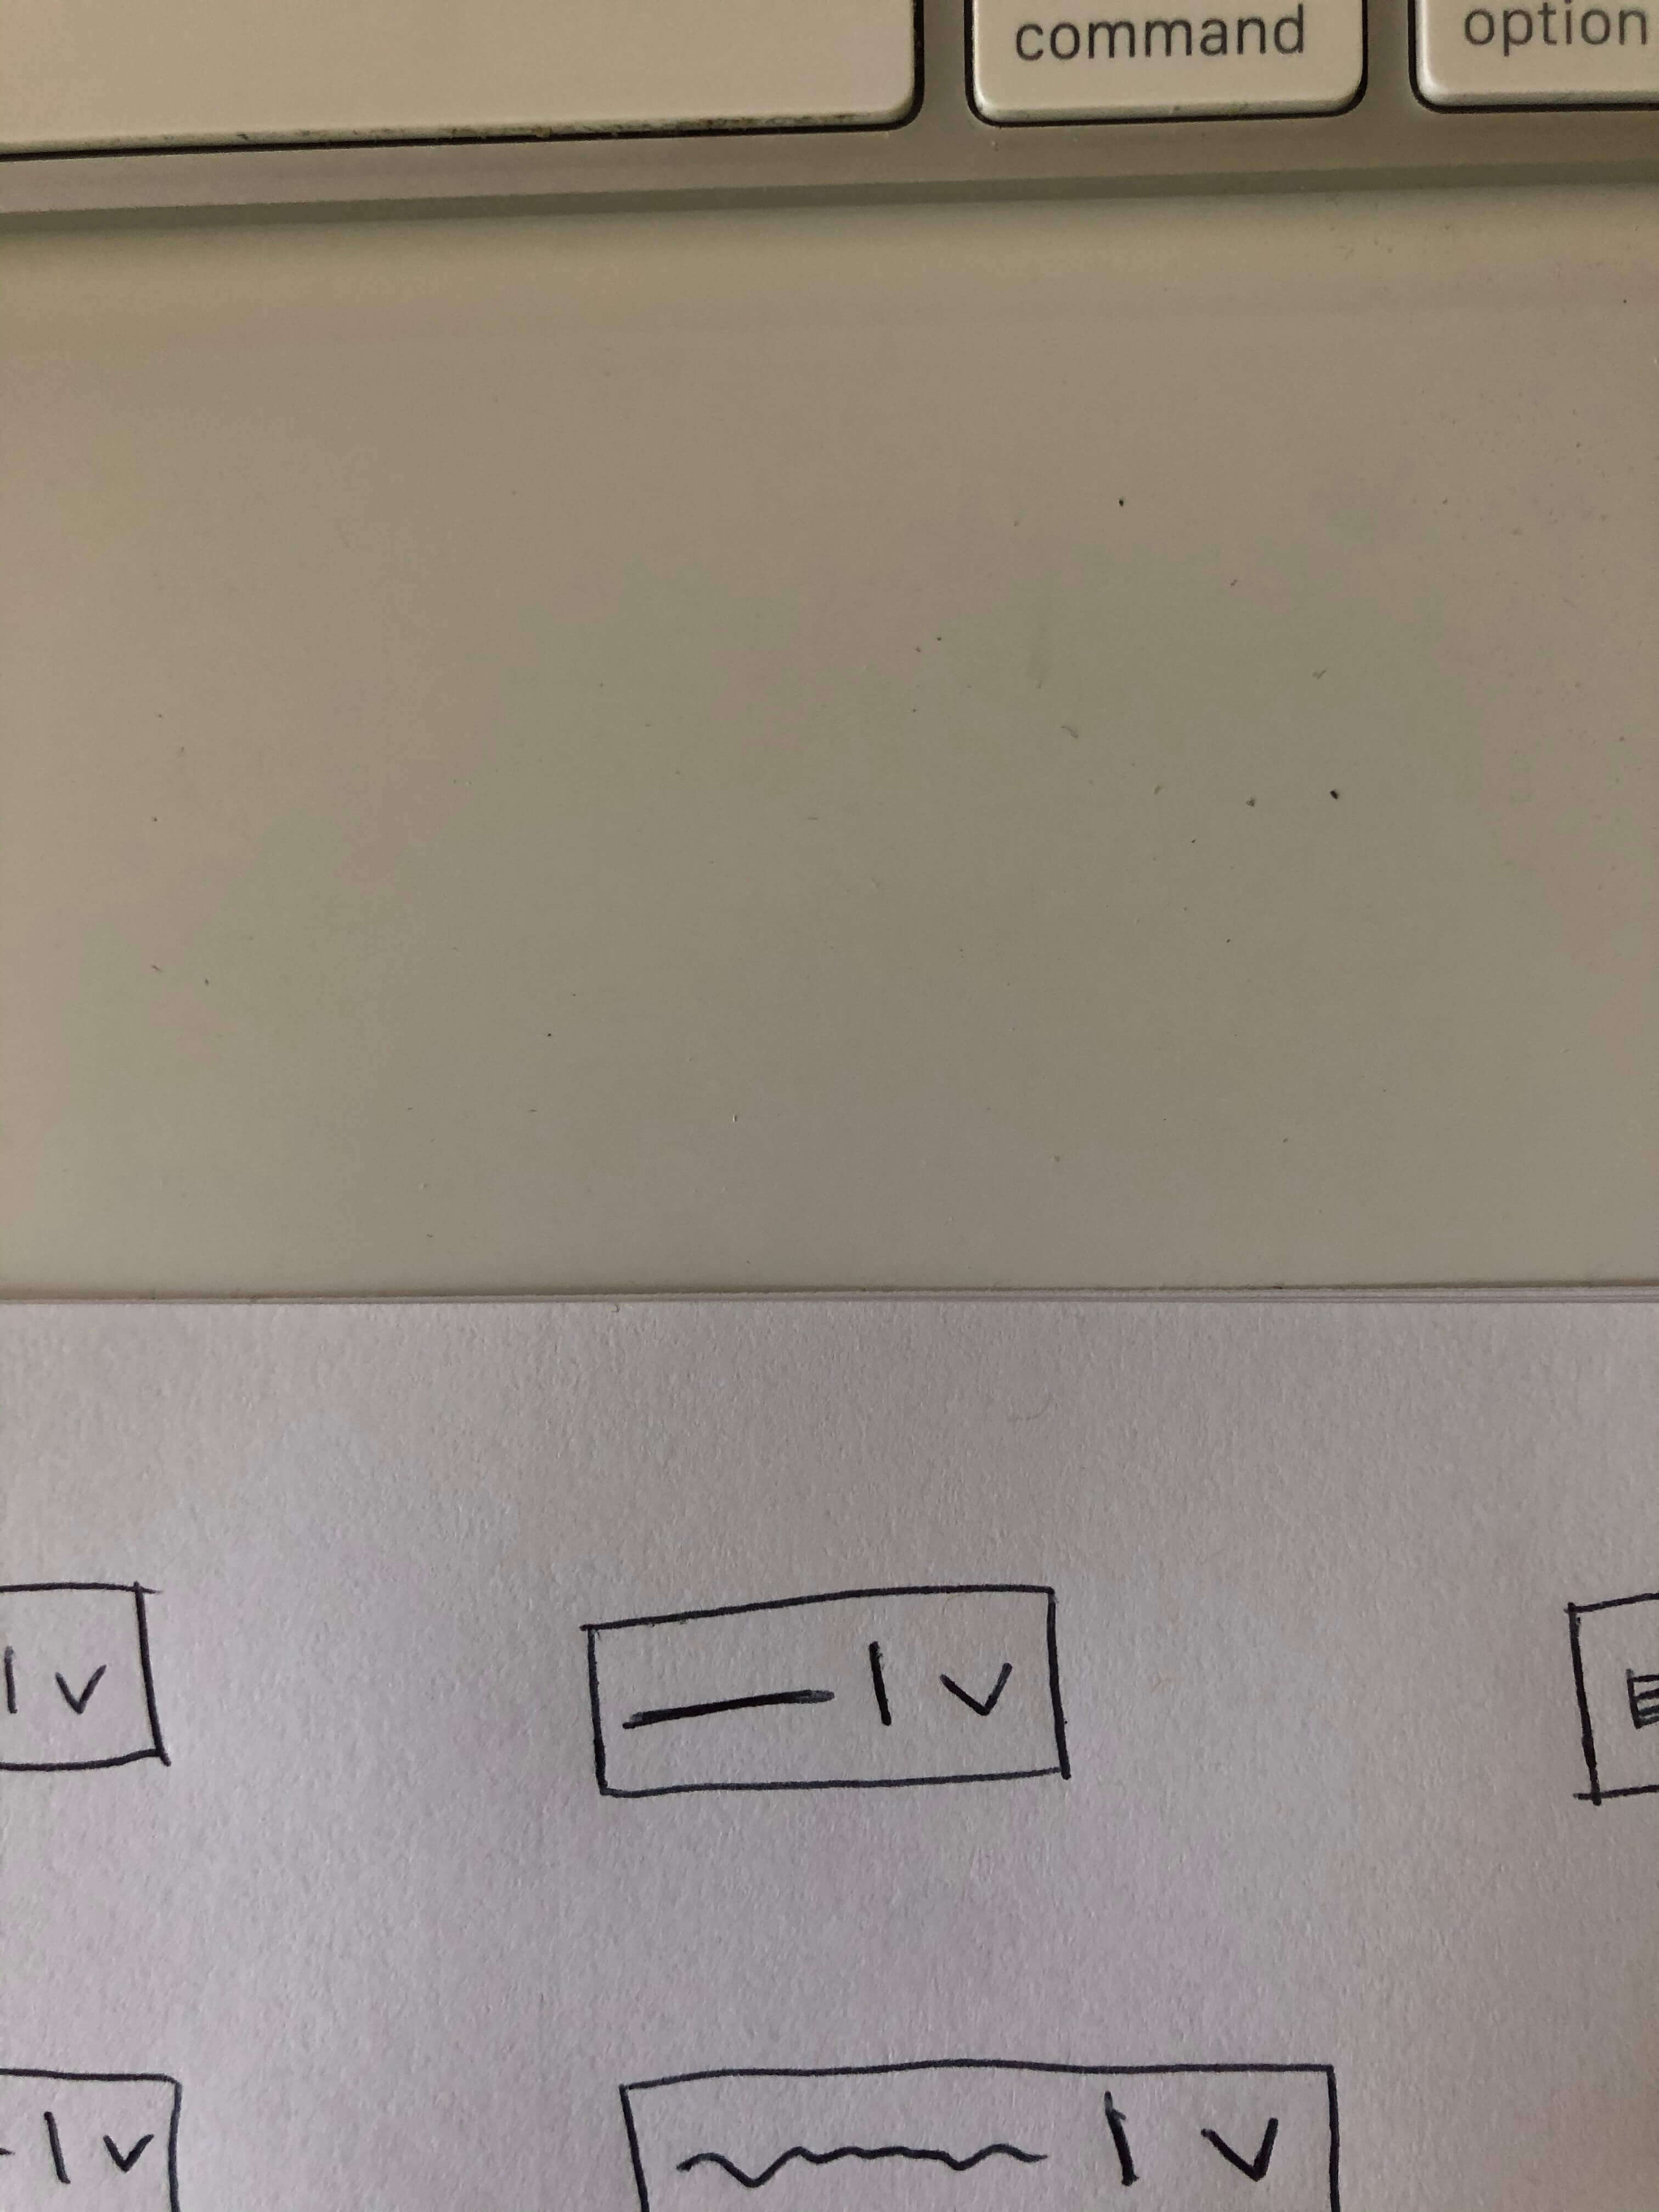split-button: (566, 1554, 1089, 1846)
